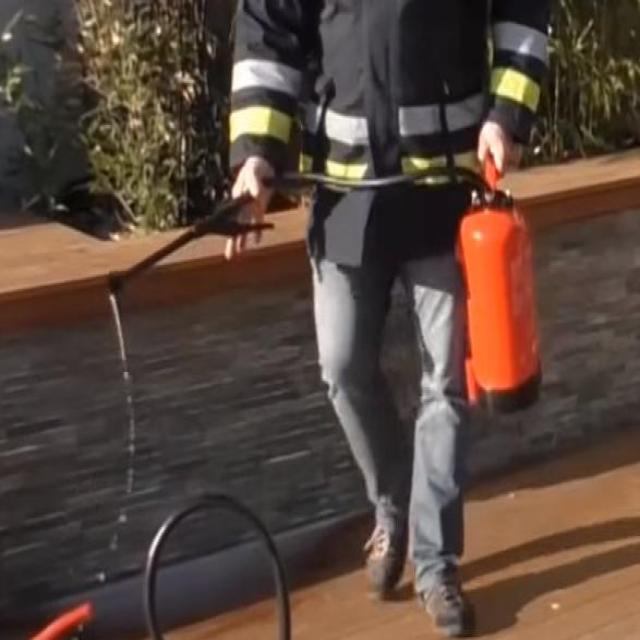fire_extinguisher: (101, 150, 546, 424)
